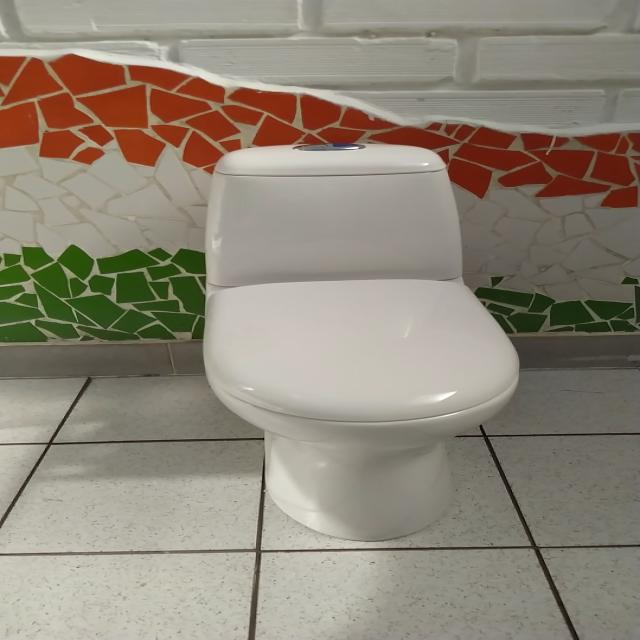toilet: (201, 142, 520, 541)
